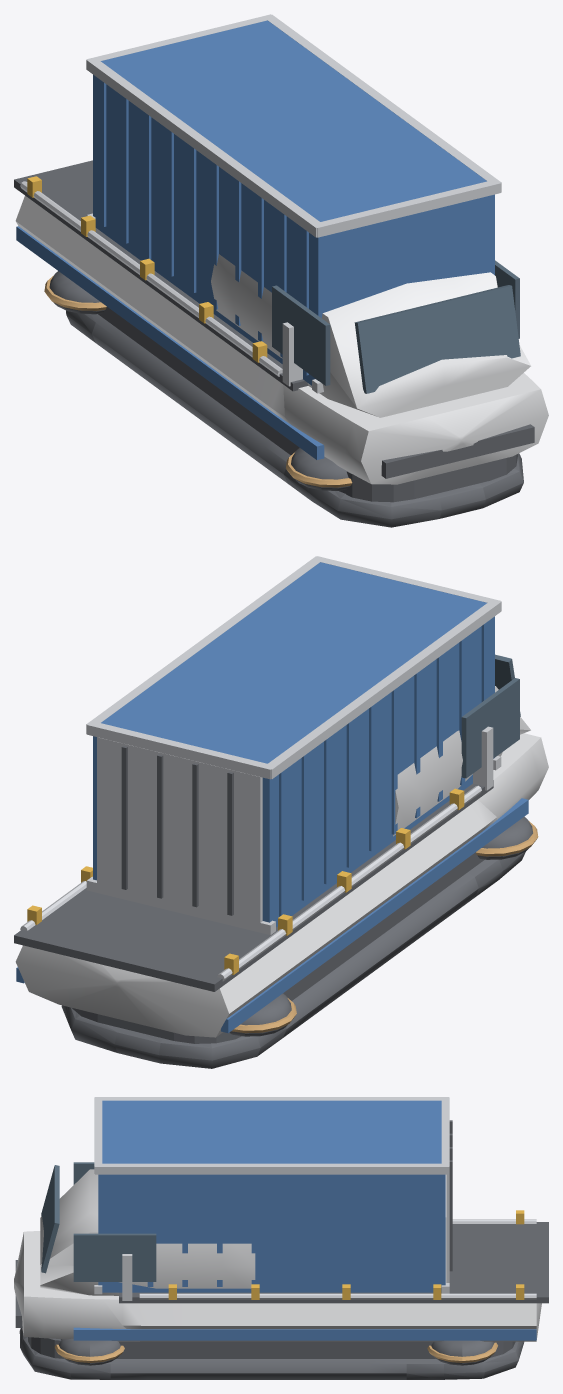
Rendered from hover-transit-and-antigrav-fleet-cargo-skiff-container-6f5afde4__17081.glb.
The picture shows the model from 3 angles, top to bottom: view 1: azimuth 30°, elevation 25°; view 2: azimuth 150°, elevation 25°; view 3: azimuth 270°, elevation 25°; orthographic projection. The views are drawn at different scales.
Visible parts, largest first — view 1: cargo-skiff-container; view 2: cargo-skiff-container; view 3: cargo-skiff-container.
Part boxes in pixels (<box>): cargo-skiff-container: <box>14,14,548,527</box>; cargo-skiff-container: <box>14,556,548,1068</box>; cargo-skiff-container: <box>14,1097,548,1379</box>.
Bounding box in the file's own units: 2.59 × 2.88 × 6.47.
